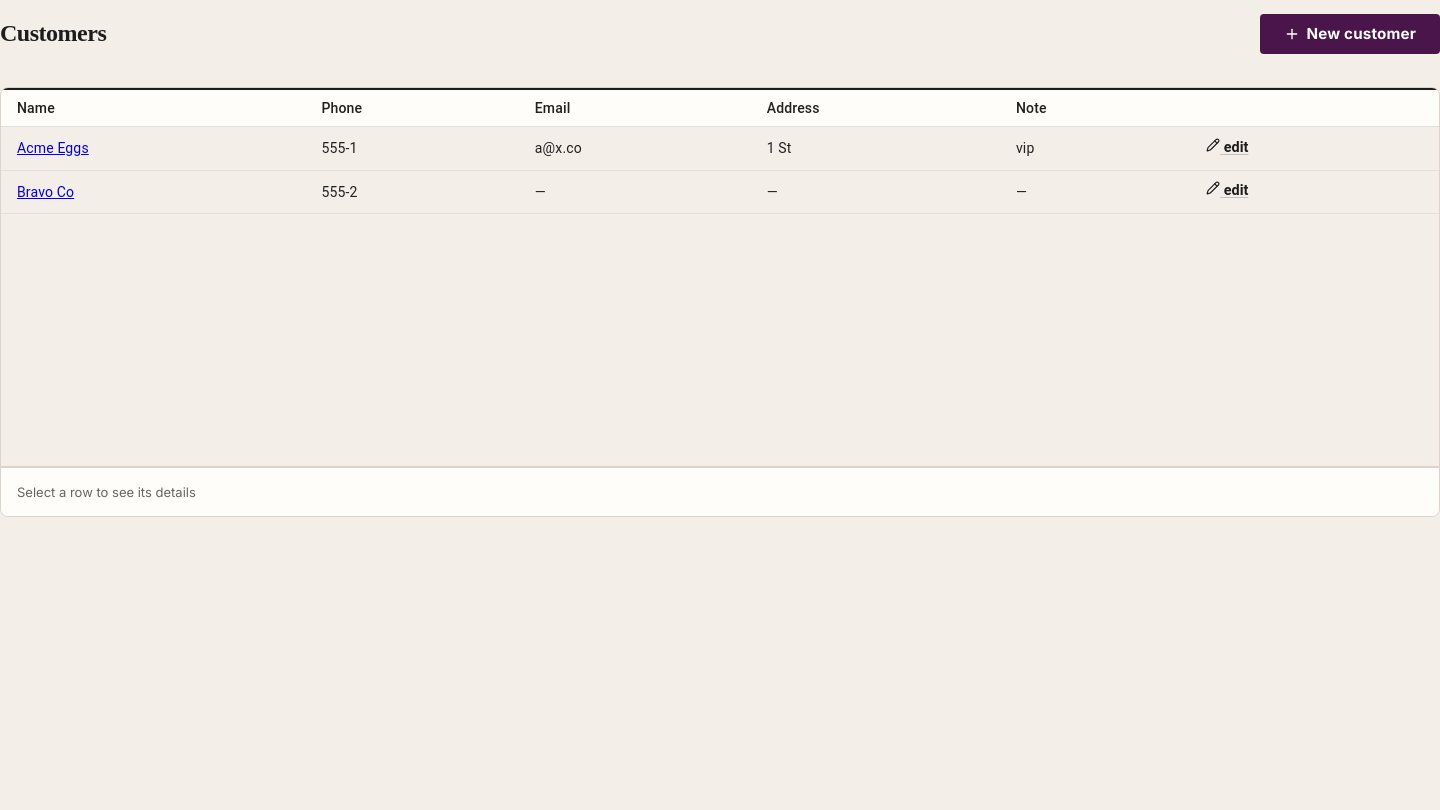
Scenario: CustomersPage selected-record inspector (#908) › clicking the row's own Edit action opens the edit dialog without also selecting the row
Click the button "edit" in the row of "Acme Eggs": (1227, 148) [1200,133,1255,164]
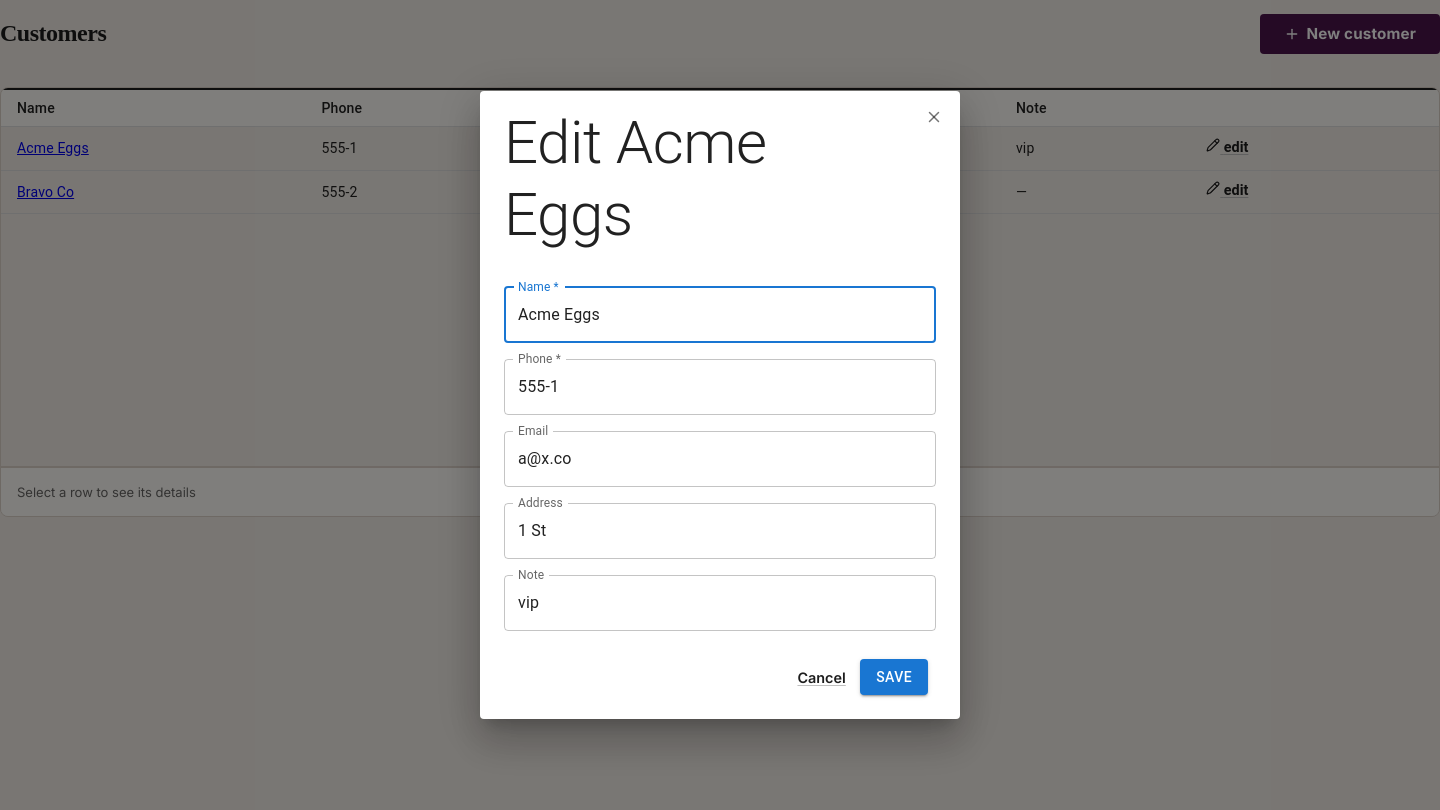
Check: the dialog "Edit Acme Eggs" is shown, box [480,91,960,719]
